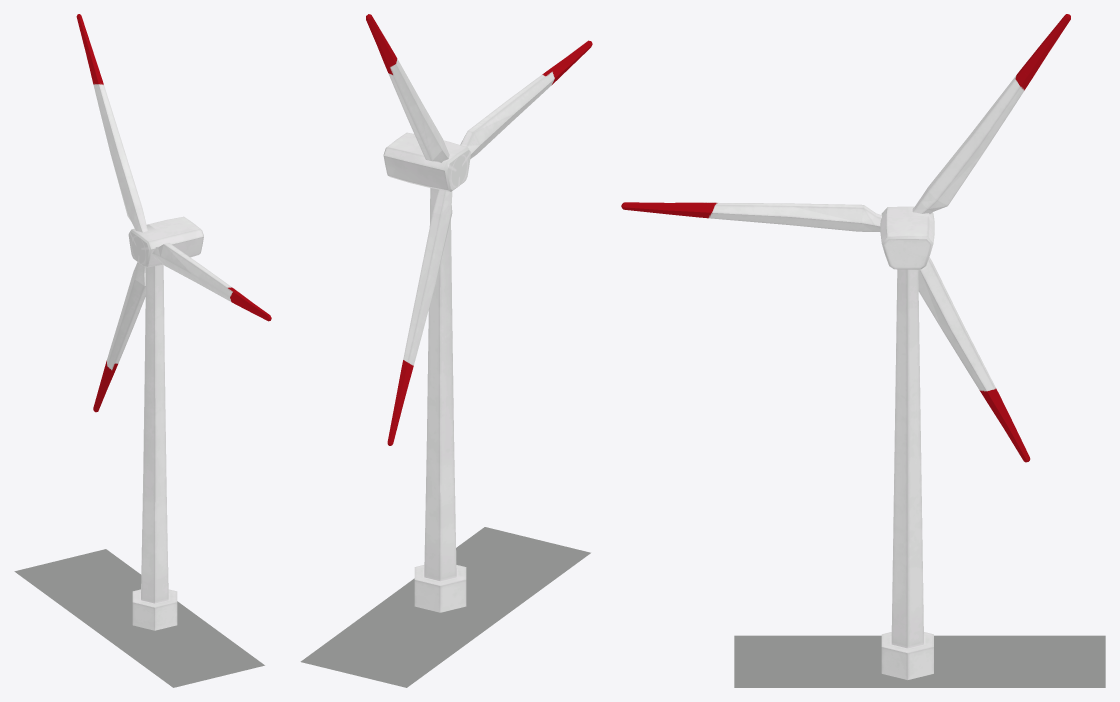
File: turbin_module.glb
3 renders of one model, left to right at view 1: azimuth 30°, elevation 25°; view 2: azimuth 150°, elevation 25°; view 3: azimuth 270°, elevation 25°, orthographic. The views are drawn at different scales.
Visible parts, largest first — view 1: Wind_Turbin, Helice_Eolienne, tile_for_home_1x1_007 (35), tile_for_home_1x1_007 (36), tile_for_home_1x1_007 (34); view 2: Wind_Turbin, Helice_Eolienne, tile_for_home_1x1_007 (36), tile_for_home_1x1_007 (35), tile_for_home_1x1_007 (34); view 3: Wind_Turbin, Helice_Eolienne, tile_for_home_1x1_007 (36), tile_for_home_1x1_007 (35), tile_for_home_1x1_007 (34).
Boxes of the visible parts, x1,y1,x2,y2 form: Wind_Turbin: (128, 216, 203, 630); Helice_Eolienne: (76, 14, 271, 412); tile_for_home_1x1_007 (35): (120, 627, 264, 687); tile_for_home_1x1_007 (36): (14, 549, 141, 610); tile_for_home_1x1_007 (34): (67, 594, 211, 648); Wind_Turbin: (383, 132, 470, 612); Helice_Eolienne: (366, 14, 592, 445); tile_for_home_1x1_007 (36): (300, 617, 467, 687); tile_for_home_1x1_007 (35): (456, 527, 590, 597); tile_for_home_1x1_007 (34): (362, 578, 529, 642); Wind_Turbin: (880, 206, 934, 679); Helice_Eolienne: (621, 14, 1070, 462); tile_for_home_1x1_007 (36): (981, 635, 1105, 687); tile_for_home_1x1_007 (35): (734, 635, 857, 687); tile_for_home_1x1_007 (34): (858, 635, 981, 687).
Size of the model in its own units: 8.25 by 46.61 by 31.3.
Materials: 2 (2 with a texture image).
